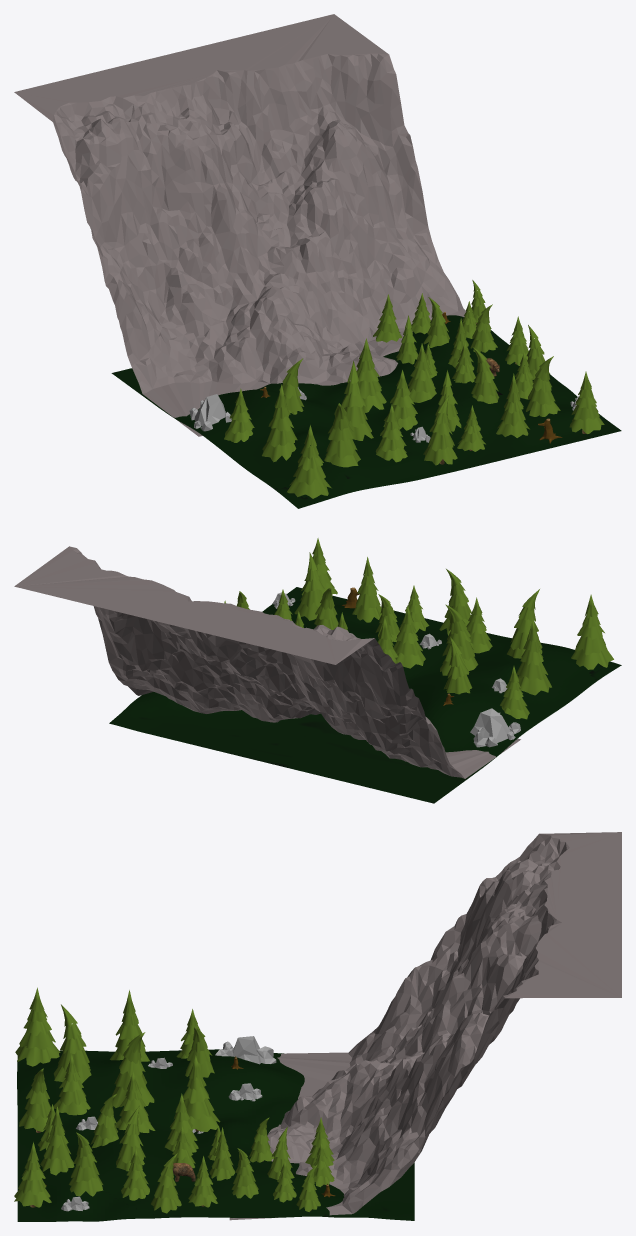
The model's file is forest.glb.
3 renders of one model, top to bottom at view 1: azimuth 30°, elevation 25°; view 2: azimuth 150°, elevation 25°; view 3: azimuth 270°, elevation 25°, orthographic. The views are drawn at different scales.
Visible parts, largest first — view 1: Landscape.001, Grid, Resource_PineTree_Group.001, Resource_PineTree_Group.002, Resource_PineTree_Group.003; view 2: Landscape.001, Grid, Resource_PineTree_Group.001, Resource_PineTree_Group.002, group1988159041.001; view 3: Landscape.001, Grid, Resource_PineTree_Group.001, Resource_PineTree_Group.002, Resource_PineTree_Group.003, group1988159041.001.
Boxes of the visible parts, box(x1,y1,x2,y2) form: Landscape.001: box(14, 14, 466, 436); Grid: box(111, 315, 621, 508); Resource_PineTree_Group.001: box(224, 338, 457, 498); Resource_PineTree_Group.002: box(408, 325, 604, 451); Resource_PineTree_Group.003: box(373, 280, 528, 378); Landscape.001: box(14, 546, 520, 778); Grid: box(109, 587, 621, 803); Resource_PineTree_Group.001: box(377, 569, 613, 719); Resource_PineTree_Group.002: box(236, 538, 429, 641); group1988159041.001: box(470, 708, 509, 742); Landscape.001: box(229, 832, 621, 1220); Grid: box(17, 1049, 414, 1221); Resource_PineTree_Group.001: box(15, 987, 220, 1132); Resource_PineTree_Group.002: box(14, 1093, 198, 1213); Resource_PineTree_Group.003: box(188, 1117, 334, 1211); group1988159041.001: box(231, 1036, 260, 1064).
Bounding box in the file's own units: 50.66 × 31.12 × 76.62.
22 materials, 2 textured.
